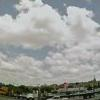Tree: (8, 81, 29, 93)
